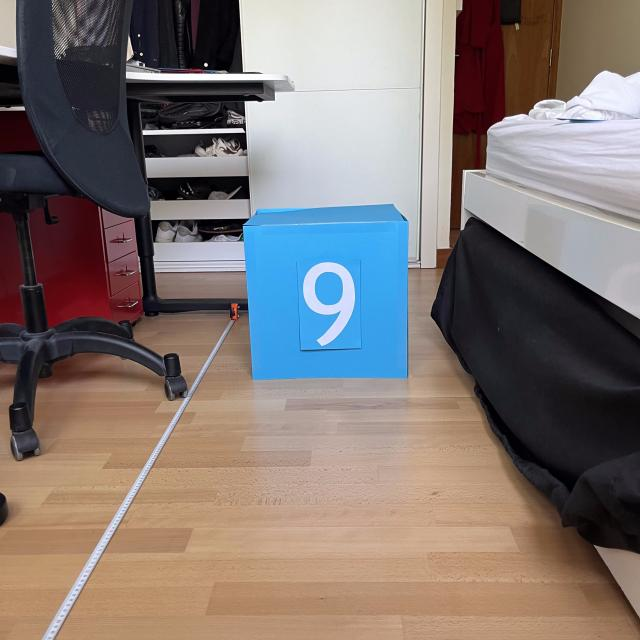box: (238, 199, 413, 383)
